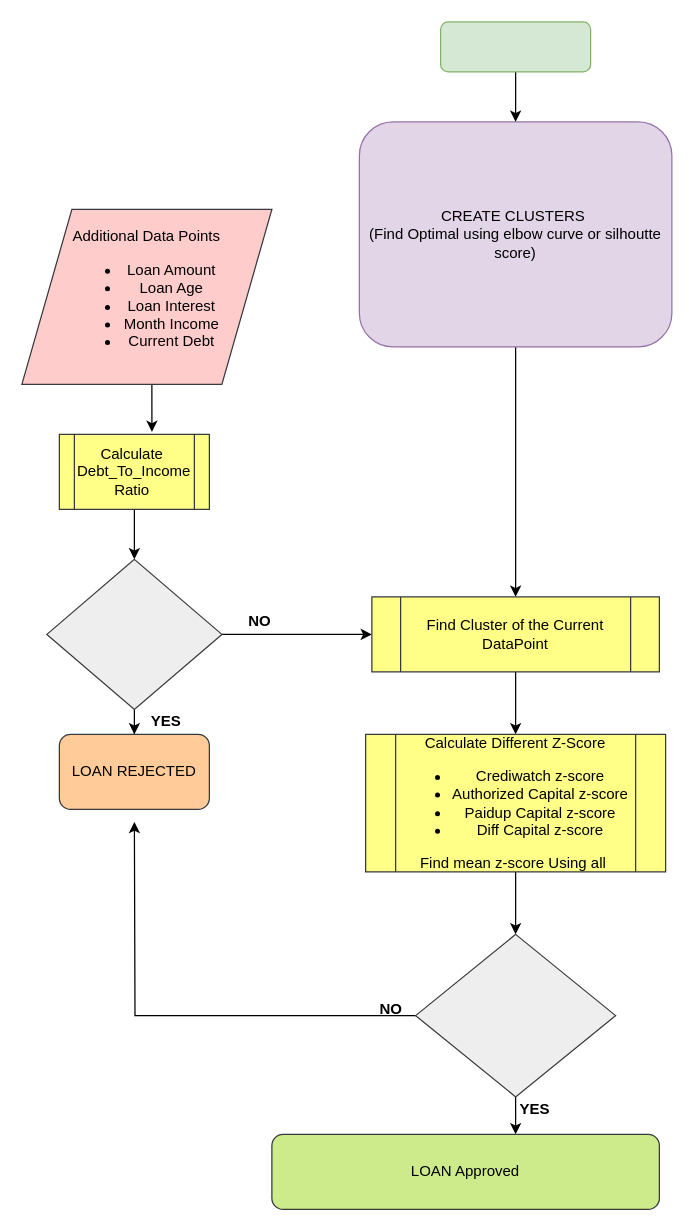
Some shapes in this 694 by 1231 pixel diagram are drawn without their labels. The centre of each missing label's shape, as x and y in pixels:
Debt_To_Income > 0.43: [134,633]
final_z_score >= 1.960 ( alpha_level_1): [515,1015]
RAW DATA: [515,46]
